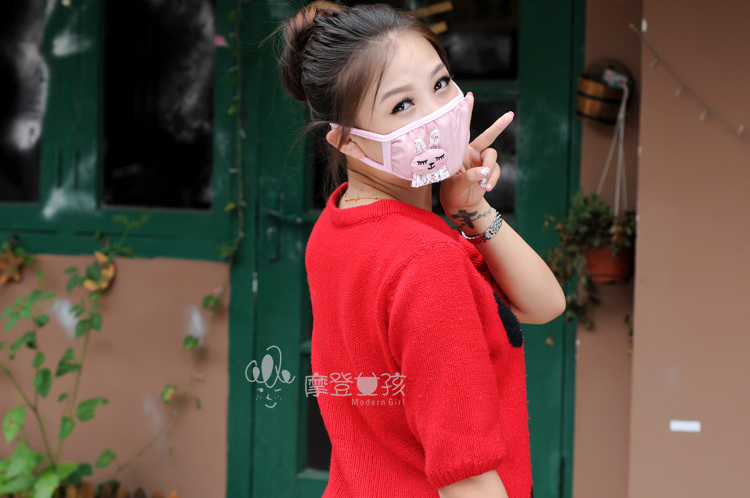face_mask: (353, 32, 471, 183)
